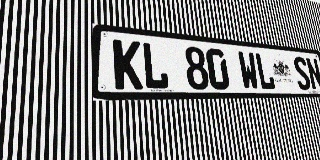0: (205, 48, 230, 90)
8: (184, 46, 210, 90)
K: (113, 39, 143, 89)
L: (141, 42, 170, 89), (254, 53, 276, 90)
N: (305, 57, 320, 90)
S: (292, 56, 312, 90)
W: (237, 51, 260, 90)
